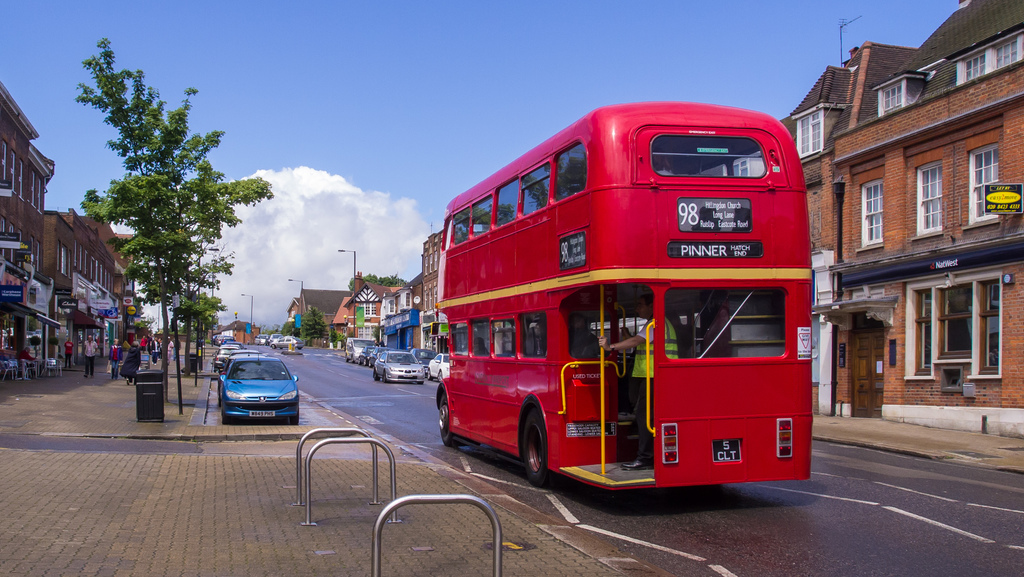Car: (209, 338, 302, 427), (348, 341, 448, 389)
